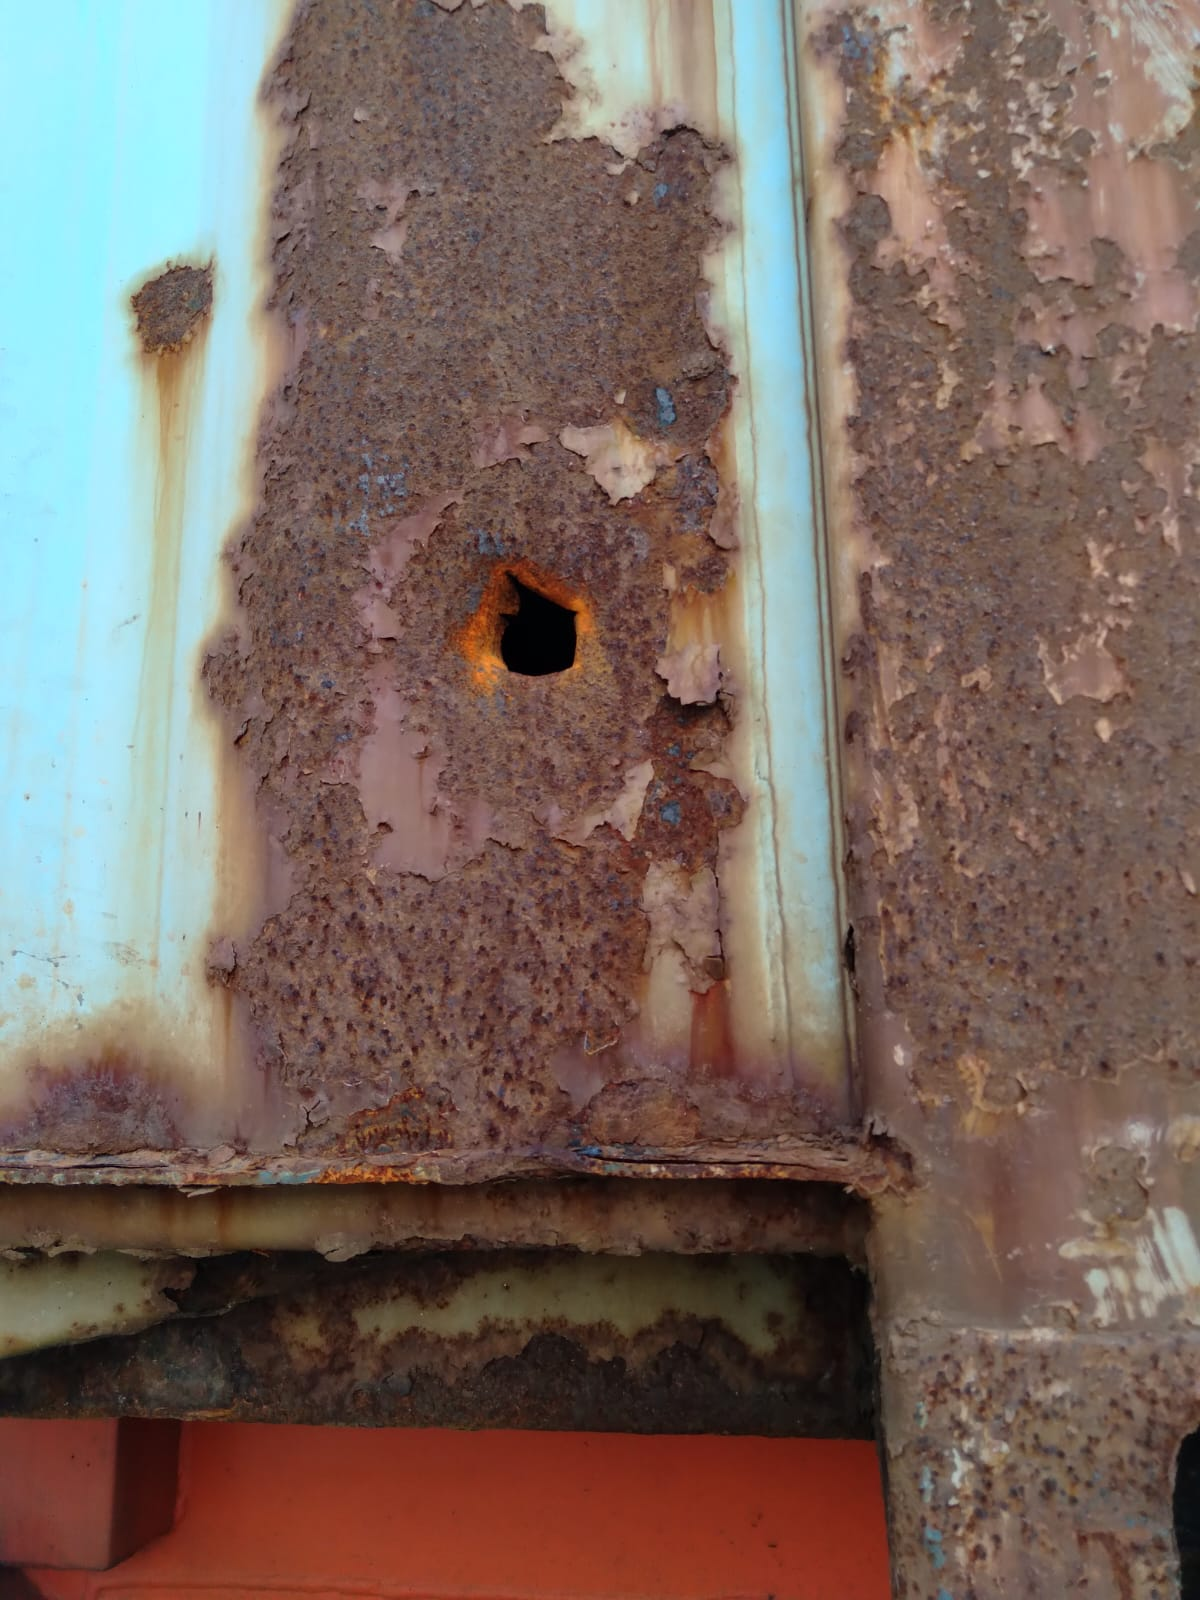hole: (432, 532, 637, 729)
rust: (817, 33, 1200, 1204), (212, 30, 769, 508), (234, 742, 855, 1145)
